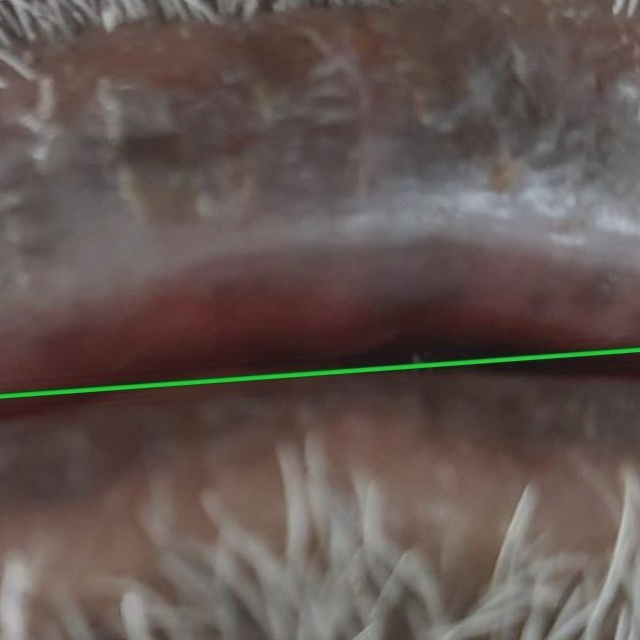Contact Dermatitis: (0, 350, 639, 639)
